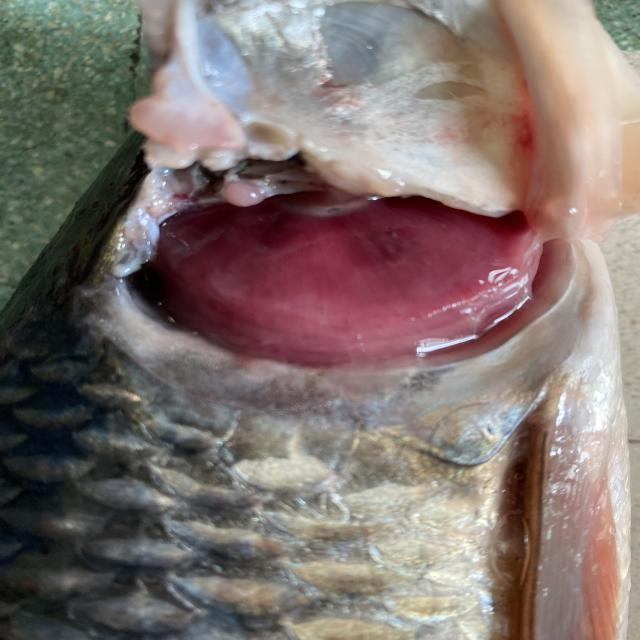Fresh: (89, 126, 613, 400)
